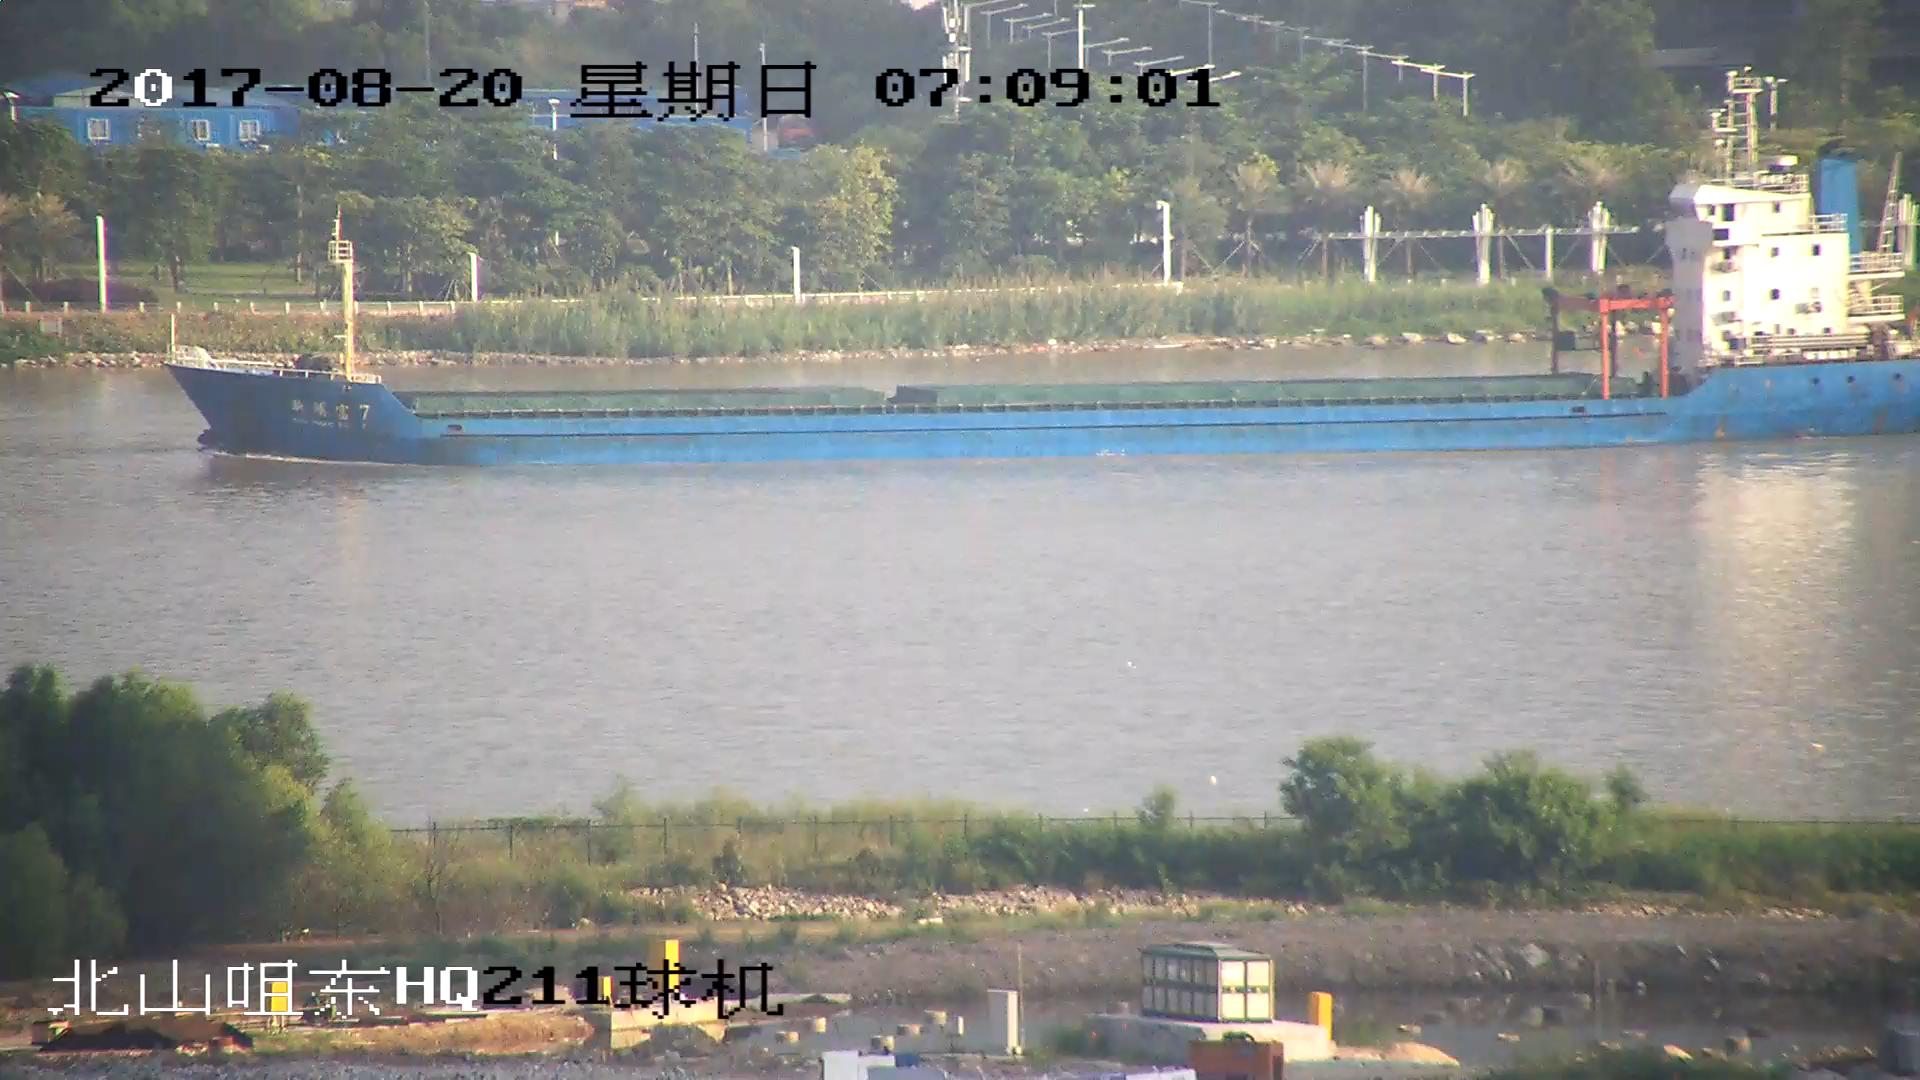general cargo ship: (157, 112, 1919, 463)
